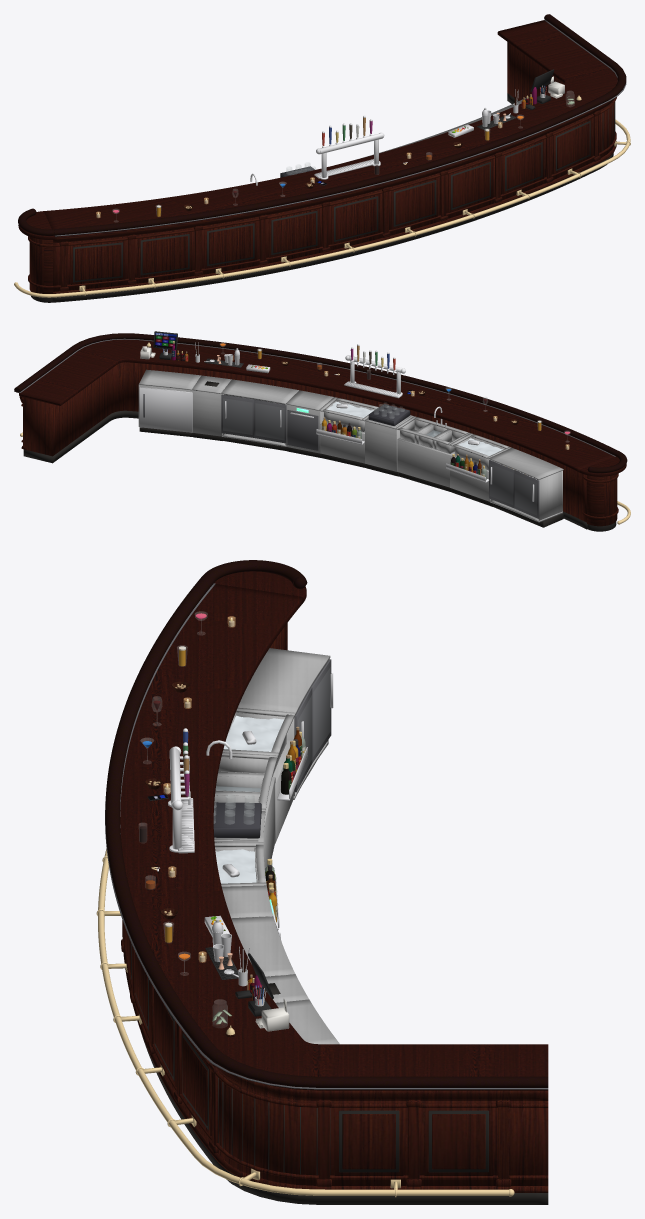
The model's file is bar_counter_l.glb.
The picture shows the model from 3 angles, top to bottom: view 1: azimuth 30°, elevation 25°; view 2: azimuth 150°, elevation 25°; view 3: azimuth 270°, elevation 25°; orthographic projection. The views are drawn at different scales.
Parts seen in each view (by area): view 1: Counter mahogany, Bar top mahogany, Plinth, Arm rest leather, Brass, Dark steel, Stainless, Chrome, Glassware, Black plastic; view 2: Brushed stainless, Bar top mahogany, Counter mahogany, Dark steel, Arm rest leather, Stainless, Plinth, Chrome, Ice bed, Bottle glass, Rack, Glassware (+2 smaller); view 3: Bar top mahogany, Counter mahogany, Brushed stainless, Arm rest leather, Plinth, Brass, Dark steel, Stainless, Ice bed, Rack, Glassware, Chrome (+1 smaller).
Part boxes in pixels (left/top/right/bottom): Counter mahogany: left=28, top=42, right=616, bottom=293; Bar top mahogany: left=18, top=20, right=617, bottom=239; Plinth: left=31, top=93, right=615, bottom=302; Arm rest leather: left=18, top=14, right=626, bottom=235; Brass: left=14, top=95, right=630, bottom=297; Dark steel: left=55, top=19, right=626, bottom=236; Stainless: left=314, top=89, right=545, bottom=178; Chrome: left=250, top=115, right=384, bottom=185; Glassware: left=112, top=91, right=574, bottom=221; Black plastic: left=316, top=69, right=554, bottom=185; Brushed stainless: left=138, top=369, right=563, bottom=522; Bar top mahogany: left=19, top=339, right=626, bottom=476; Counter mahogany: left=19, top=362, right=618, bottom=526; Dark steel: left=14, top=338, right=615, bottom=518; Arm rest leather: left=14, top=333, right=627, bottom=473; Stainless: left=139, top=342, right=534, bottom=501; Plinth: left=23, top=381, right=616, bottom=531; Chrome: left=345, top=344, right=446, bottom=426; Ice bed: left=327, top=401, right=503, bottom=455; Bottle glass: left=172, top=343, right=486, bottom=479; Rack: left=368, top=404, right=410, bottom=426; Glassware: left=220, top=342, right=569, bottom=441; Bar top mahogany: left=120, top=571, right=548, bottom=1090; Counter mahogany: left=121, top=623, right=548, bottom=1192; Brushed stainless: left=214, top=648, right=339, bottom=1044; Arm rest leather: left=105, top=560, right=548, bottom=1087; Plinth: left=131, top=764, right=548, bottom=1204; Brass: left=96, top=848, right=514, bottom=1197; Dark steel: left=105, top=583, right=548, bottom=1089; Stainless: left=156, top=673, right=333, bottom=1006; Ice bed: left=215, top=715, right=284, bottom=883; Rack: left=213, top=802, right=261, bottom=838; Glassware: left=139, top=611, right=254, bottom=1027; Chrome: left=168, top=728, right=232, bottom=852.
Bounding box in the file's own units: 9.81 × 1.82 × 3.54.
54 materials, 12 textured.
